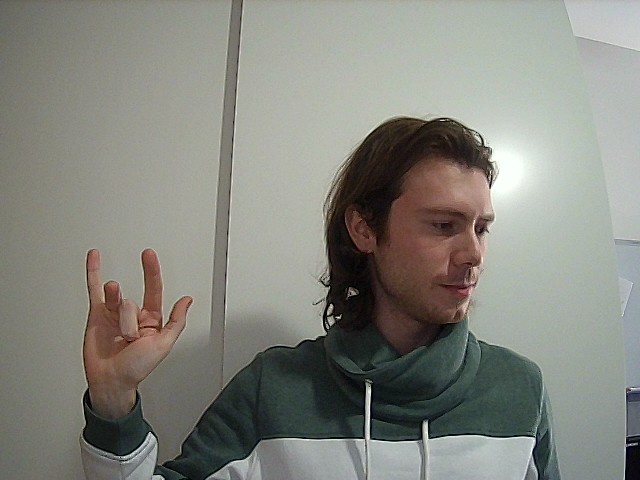reset: (65, 230, 200, 399)
